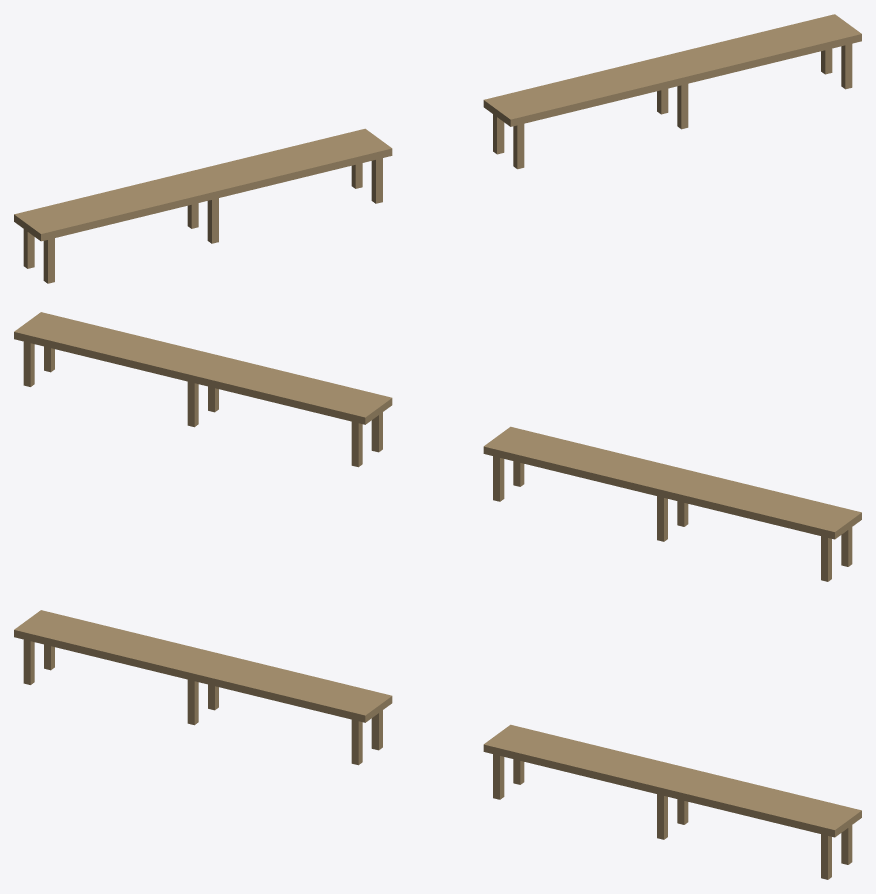
File: p1BancaBase.fbx
3 views of the same model, one above another, from view 1: azimuth 30°, elevation 25°; view 2: azimuth 150°, elevation 25°; view 3: azimuth 330°, elevation 25° (orthographic).
Parts seen in each view (by area): view 1: polySurface2, polySurface1; view 2: polySurface2, polySurface1; view 3: polySurface1, polySurface2.
Part boxes in pixels (x1,y1,x2,y2): polySurface2: (483, 14, 861, 169); polySurface1: (14, 128, 392, 283); polySurface2: (14, 312, 392, 467); polySurface1: (483, 426, 861, 581); polySurface1: (14, 610, 392, 765); polySurface2: (483, 724, 861, 879).
Size of the model in its own units: 35.04 by 2.15 by 2.01.
